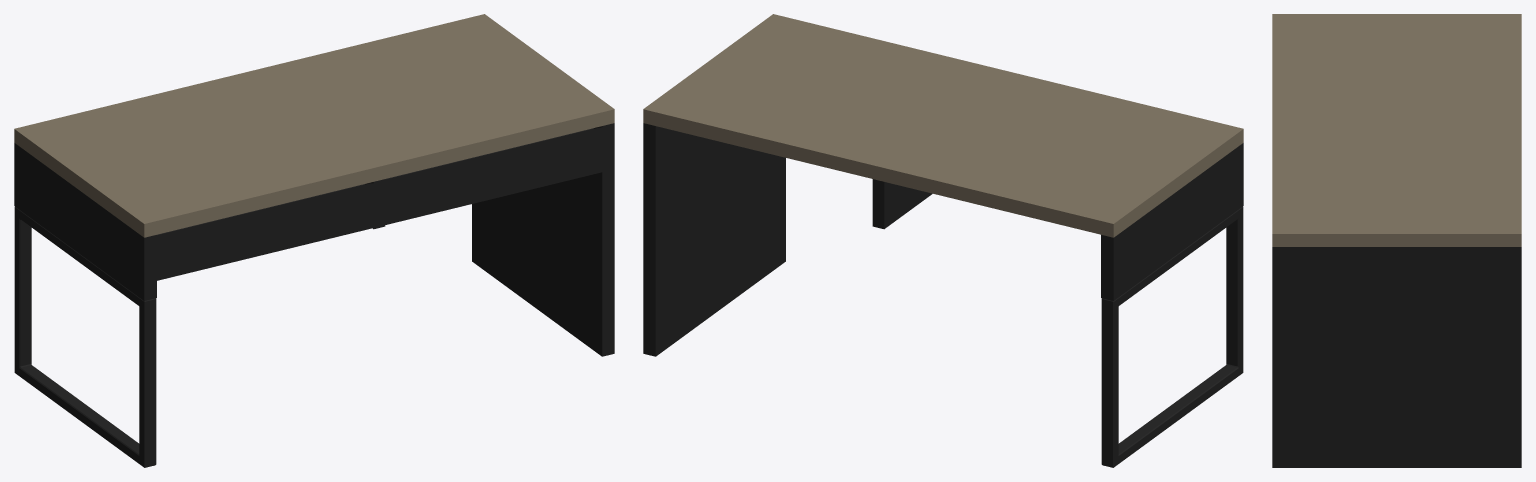
File: prp_Desk_01_Color.fbx
The picture shows the model from 3 angles, left to right: view 1: azimuth 30°, elevation 25°; view 2: azimuth 150°, elevation 25°; view 3: azimuth 270°, elevation 25°; orthographic projection. The views are drawn at different scales.
Parts seen in each view (by area): view 1: SM_Desk_01_Top, SM_Desk_01_Leg_02, SM_Desk_01_Leg_01, SM_Desk_01_Drawer_01, SM_Desk_01_Drawer_02, SM_Desk_01_Divider; view 2: SM_Desk_01_Top, SM_Desk_01_Leg_02, SM_Desk_01_Leg_01, SM_Desk_01_Divider; view 3: SM_Desk_01_Top, SM_Desk_01_Leg_02.
Part boxes in pixels (<box>): SM_Desk_01_Top: <box>14,14,614,237</box>; SM_Desk_01_Leg_02: <box>472,123,614,356</box>; SM_Desk_01_Leg_01: <box>14,143,156,467</box>; SM_Desk_01_Drawer_01: <box>385,127,602,224</box>; SM_Desk_01_Drawer_02: <box>157,183,373,280</box>; SM_Desk_01_Divider: <box>365,179,385,229</box>; SM_Desk_01_Top: <box>643,14,1243,237</box>; SM_Desk_01_Leg_02: <box>643,123,785,356</box>; SM_Desk_01_Leg_01: <box>1101,143,1243,467</box>; SM_Desk_01_Divider: <box>872,179,932,229</box>; SM_Desk_01_Top: <box>1272,14,1521,246</box>; SM_Desk_01_Leg_02: <box>1272,247,1521,467</box>.
Size of the model in its own units: 182 by 90.12 by 86.95.
